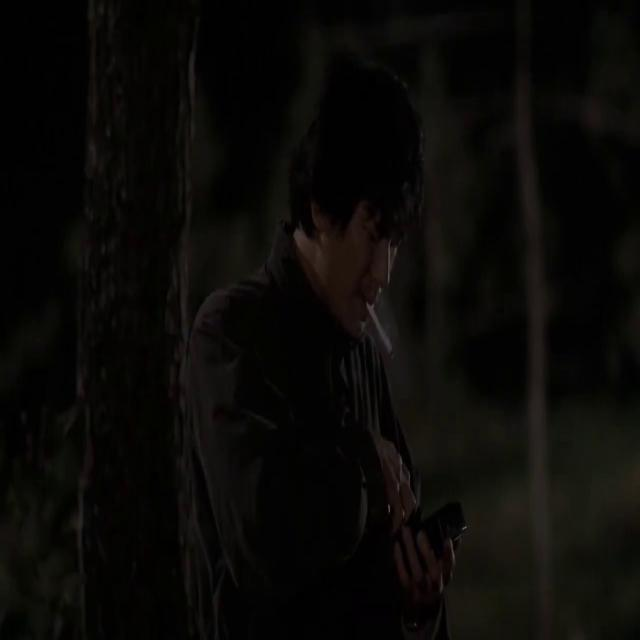Smooking: (368, 295, 400, 365)
